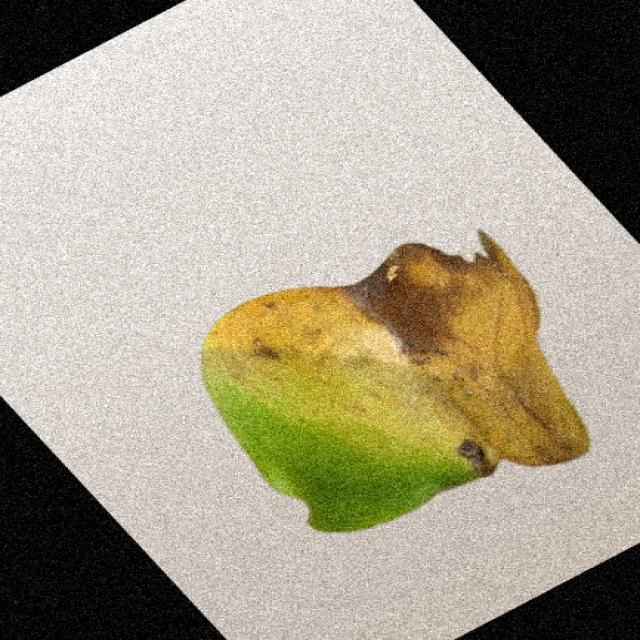daun berpenyakit kuning: (203, 232, 590, 531)
